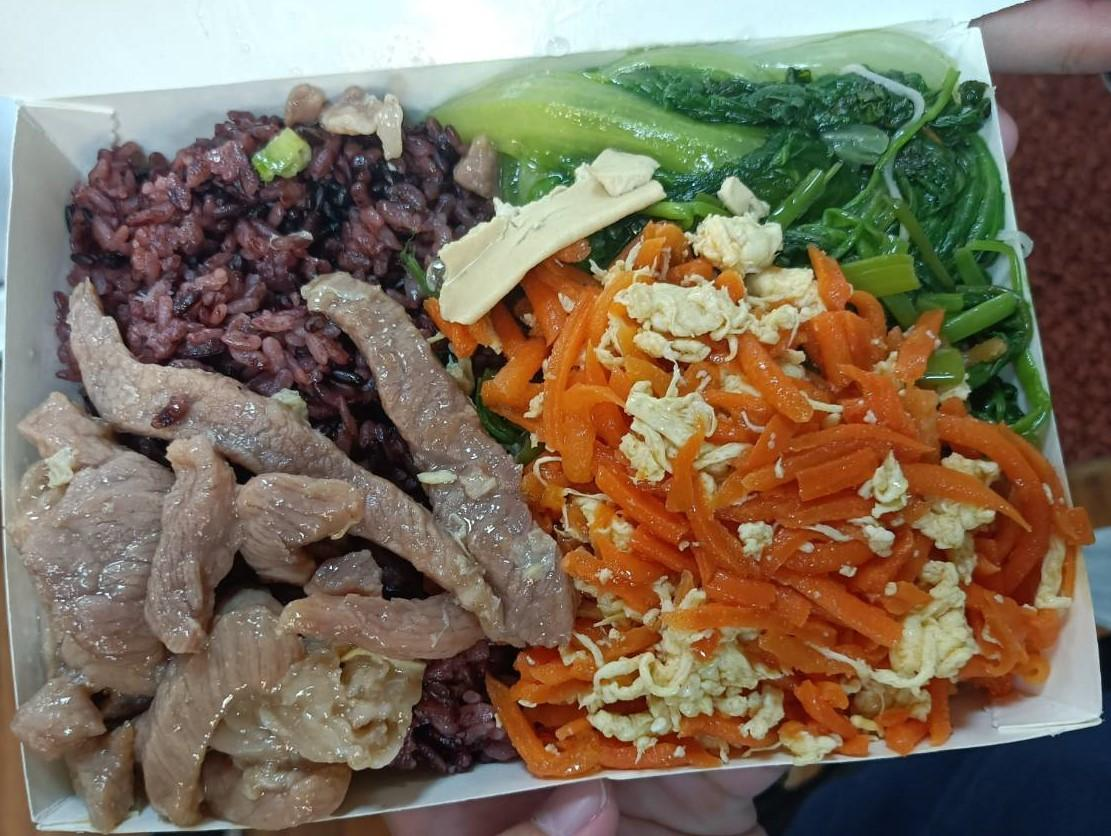big grilled chicken leg: (2, 68, 1111, 836)
braised fish: (54, 95, 499, 438)
braised fish fillet: (439, 148, 1067, 748), (458, 49, 1042, 423)
braised pork: (13, 258, 566, 820)
